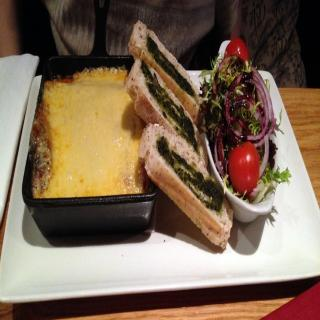tomato: (230, 136, 261, 182), (224, 36, 249, 64)
